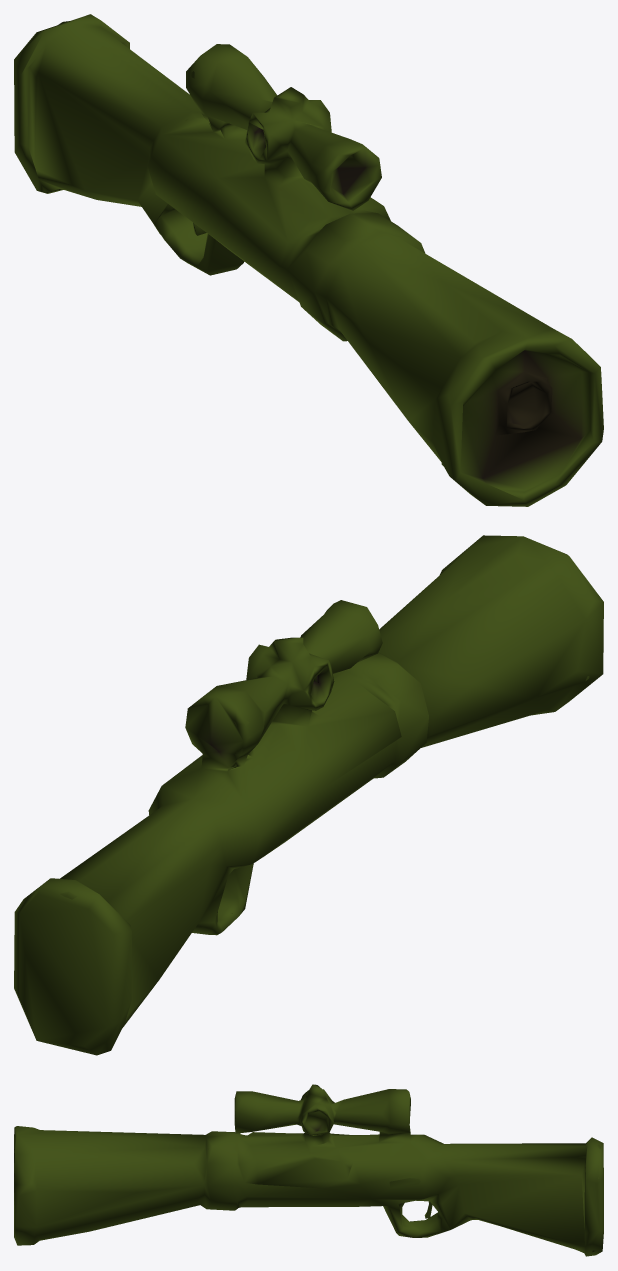
Rendered from gen3d-bazooka-lod1.glb.
3 renders of one model, top to bottom at view 1: azimuth 30°, elevation 25°; view 2: azimuth 150°, elevation 25°; view 3: azimuth 270°, elevation 25°, orthographic. The views are drawn at different scales.
Parts seen in each view (by area): view 1: part_0; view 2: part_0; view 3: part_0.
Boxes of the visible parts, x1=… form: part_0: x1=14, y1=14, x2=603, y2=506; part_0: x1=14, y1=535, x2=603, y2=1055; part_0: x1=14, y1=1084, x2=603, y2=1256.
Bounding box in the file's own units: 0.6395 × 0.9992 × 3.35.
